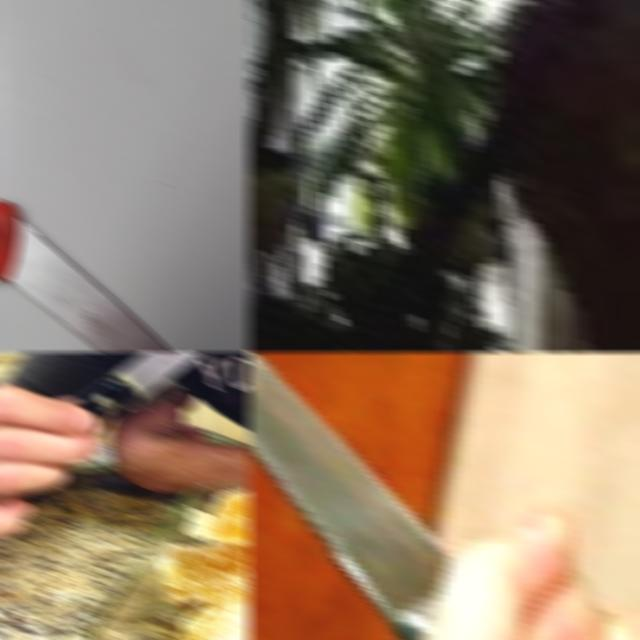Knife: (246, 352, 448, 640), (0, 198, 176, 352)
Knife_Handle: (336, 0, 640, 352)
